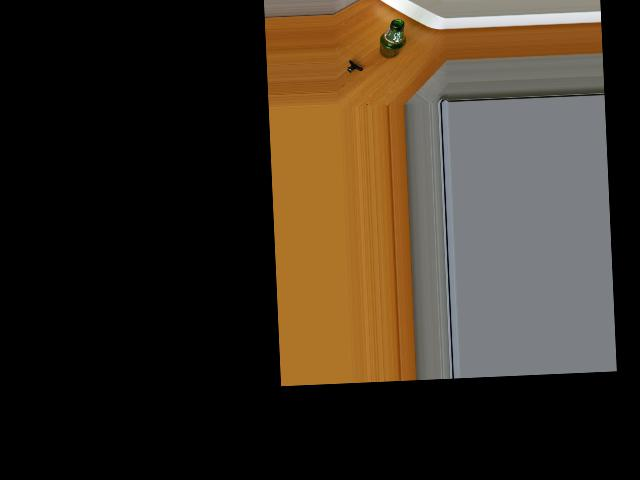beer: (379, 19, 406, 59)
